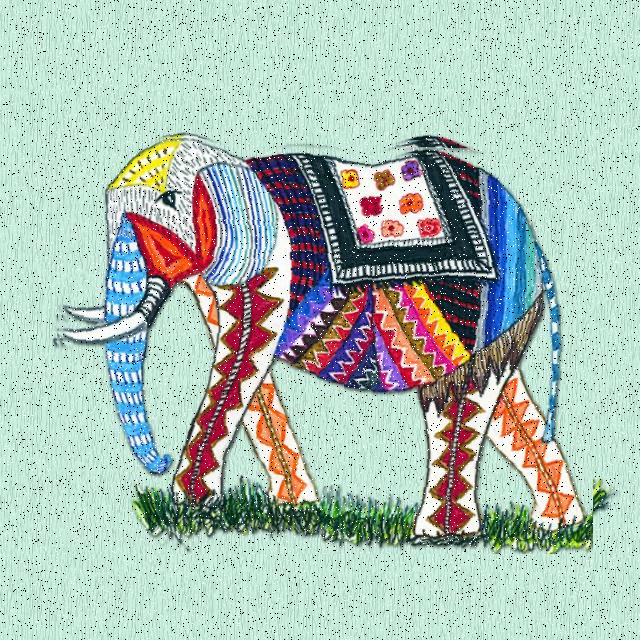elephant: (53, 133, 593, 554)
